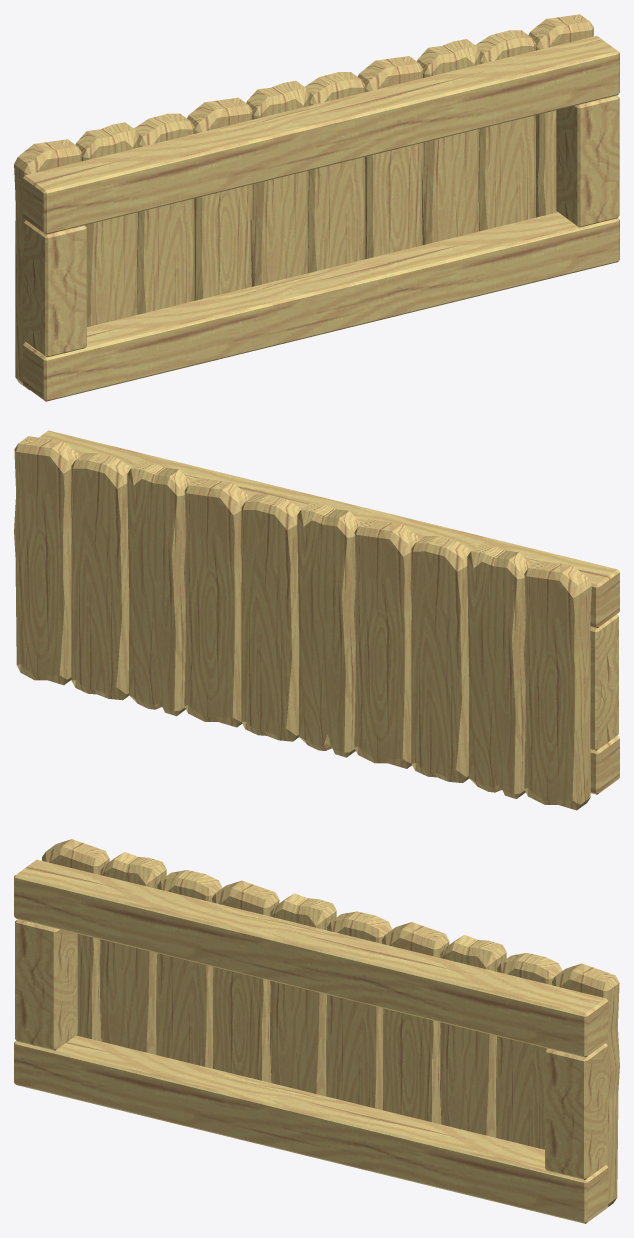
The model's file is BridgeCenter.FBX.
3 renders of one model, top to bottom at view 1: azimuth 30°, elevation 25°; view 2: azimuth 150°, elevation 25°; view 3: azimuth 330°, elevation 25°, orthographic.
Parts seen in each view (by area): view 1: pasted__polySurface2515__pasted__Wood_00; view 2: pasted__polySurface2515__pasted__Wood_00; view 3: pasted__polySurface2515__pasted__Wood_00.
Part boxes in pixels (box(x1,y1,x2,y2)): pasted__polySurface2515__pasted__Wood_00: box(14, 14, 619, 401); pasted__polySurface2515__pasted__Wood_00: box(14, 430, 619, 810); pasted__polySurface2515__pasted__Wood_00: box(14, 839, 619, 1223).
Size of the model in its own units: 1023 by 405 by 119.
